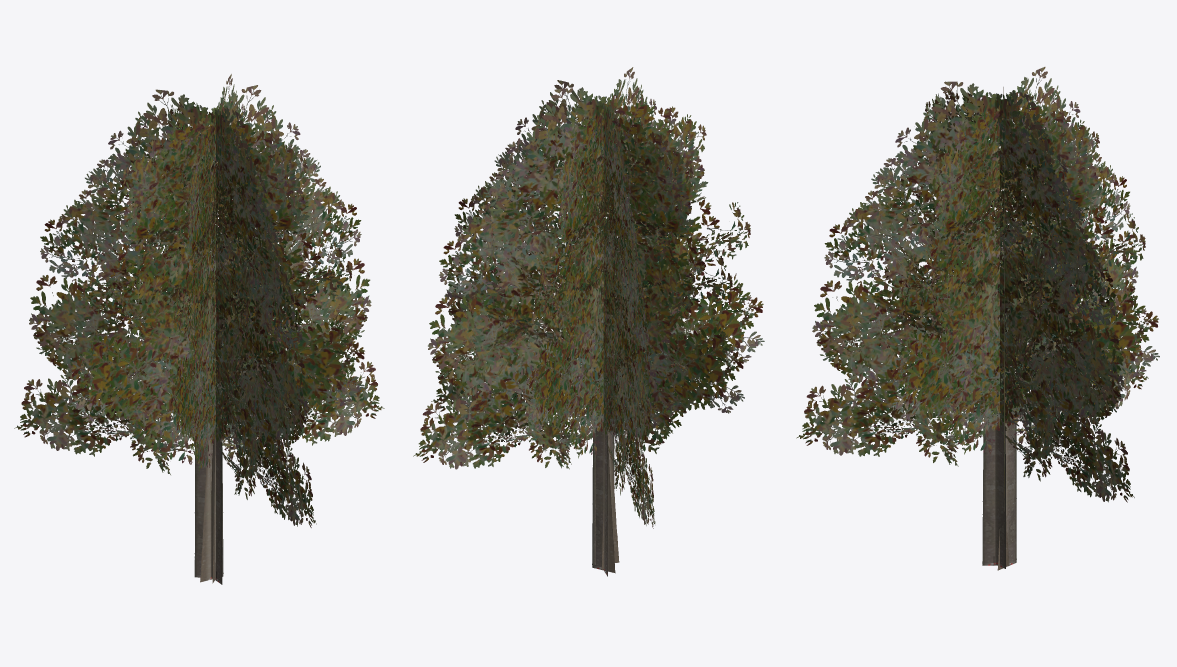
File: tree22.glb
3 views of the same model, side by side, from view 1: azimuth 30°, elevation 25°; view 2: azimuth 150°, elevation 25°; view 3: azimuth 270°, elevation 25° (orthographic).
Visible parts, largest first — view 1: 4_LOD3.001; view 2: 4_LOD3.001; view 3: 4_LOD3.001.
Part boxes in pixels (left/top/right/bottom): 4_LOD3.001: left=14, top=74, right=384, bottom=584; 4_LOD3.001: left=413, top=67, right=764, bottom=576; 4_LOD3.001: left=796, top=67, right=1159, bottom=570.
Bounding box in the file's own units: 9.74 × 14.28 × 9.74.
1 material, 1 textured.
